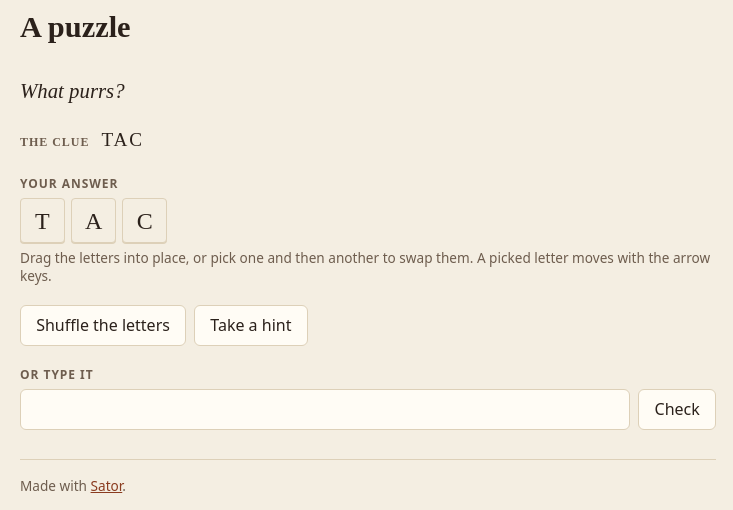
Scenario: the players’ page › swaps two letters picked in turn, and says so when they spell the answer
This screenshot has width=733, height=510.
Click the button named "T, 1 of 3" at (42, 221), box [20,198,65,243]
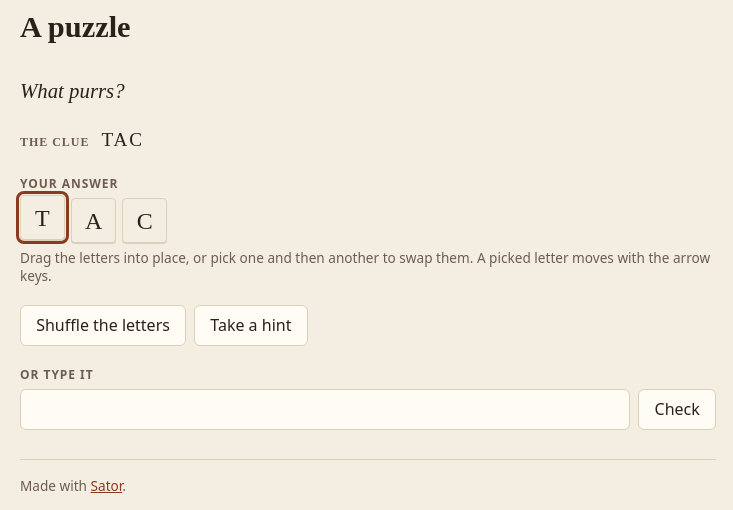
Check: the button named "T, 1 of 3" is pressed, box [20,195,65,240]
Click the button named "C, 3 of 3" at (145, 221), box [122,198,167,243]
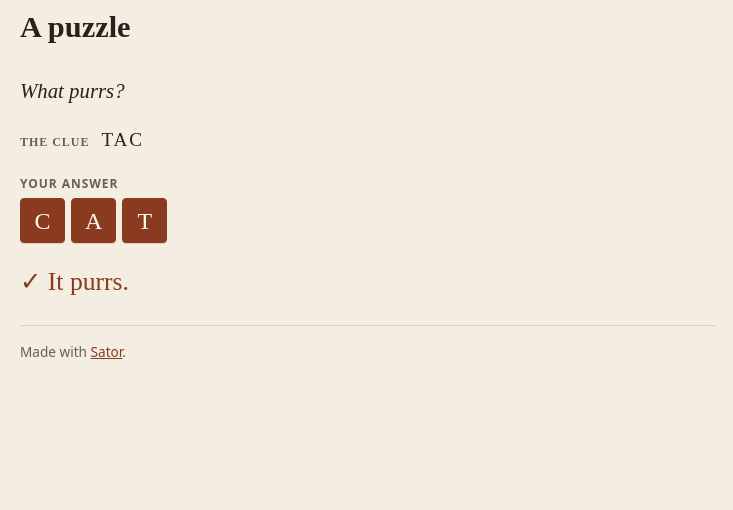
Check: the text "It purrs." is shown, box [48,267,129,296]
